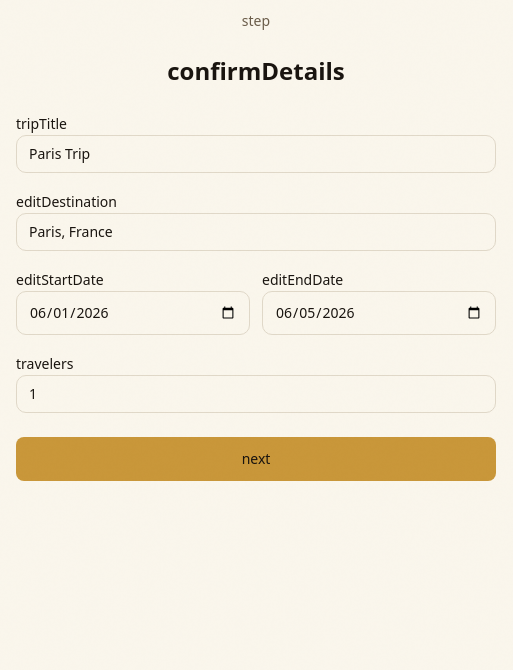
Test case: PlanGeneratorWizard › navigates to step 2 after successful trip update
Click the button "next".
click(256, 459)  # box [16,437,496,481]
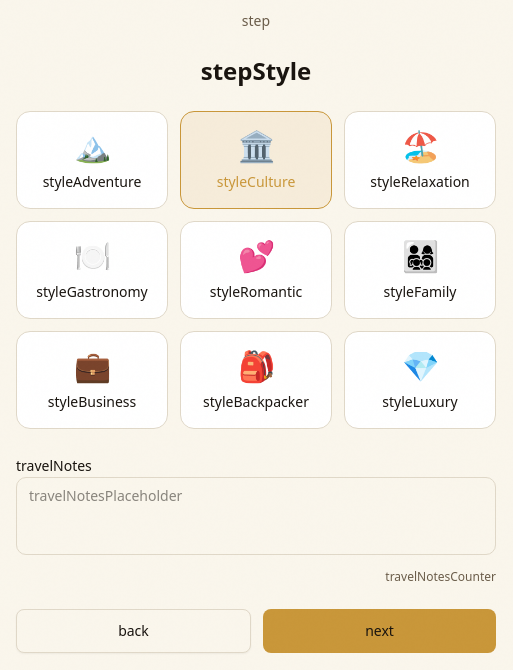
Now the heading "stepStyle" is shown, box [201,54,311,87]
